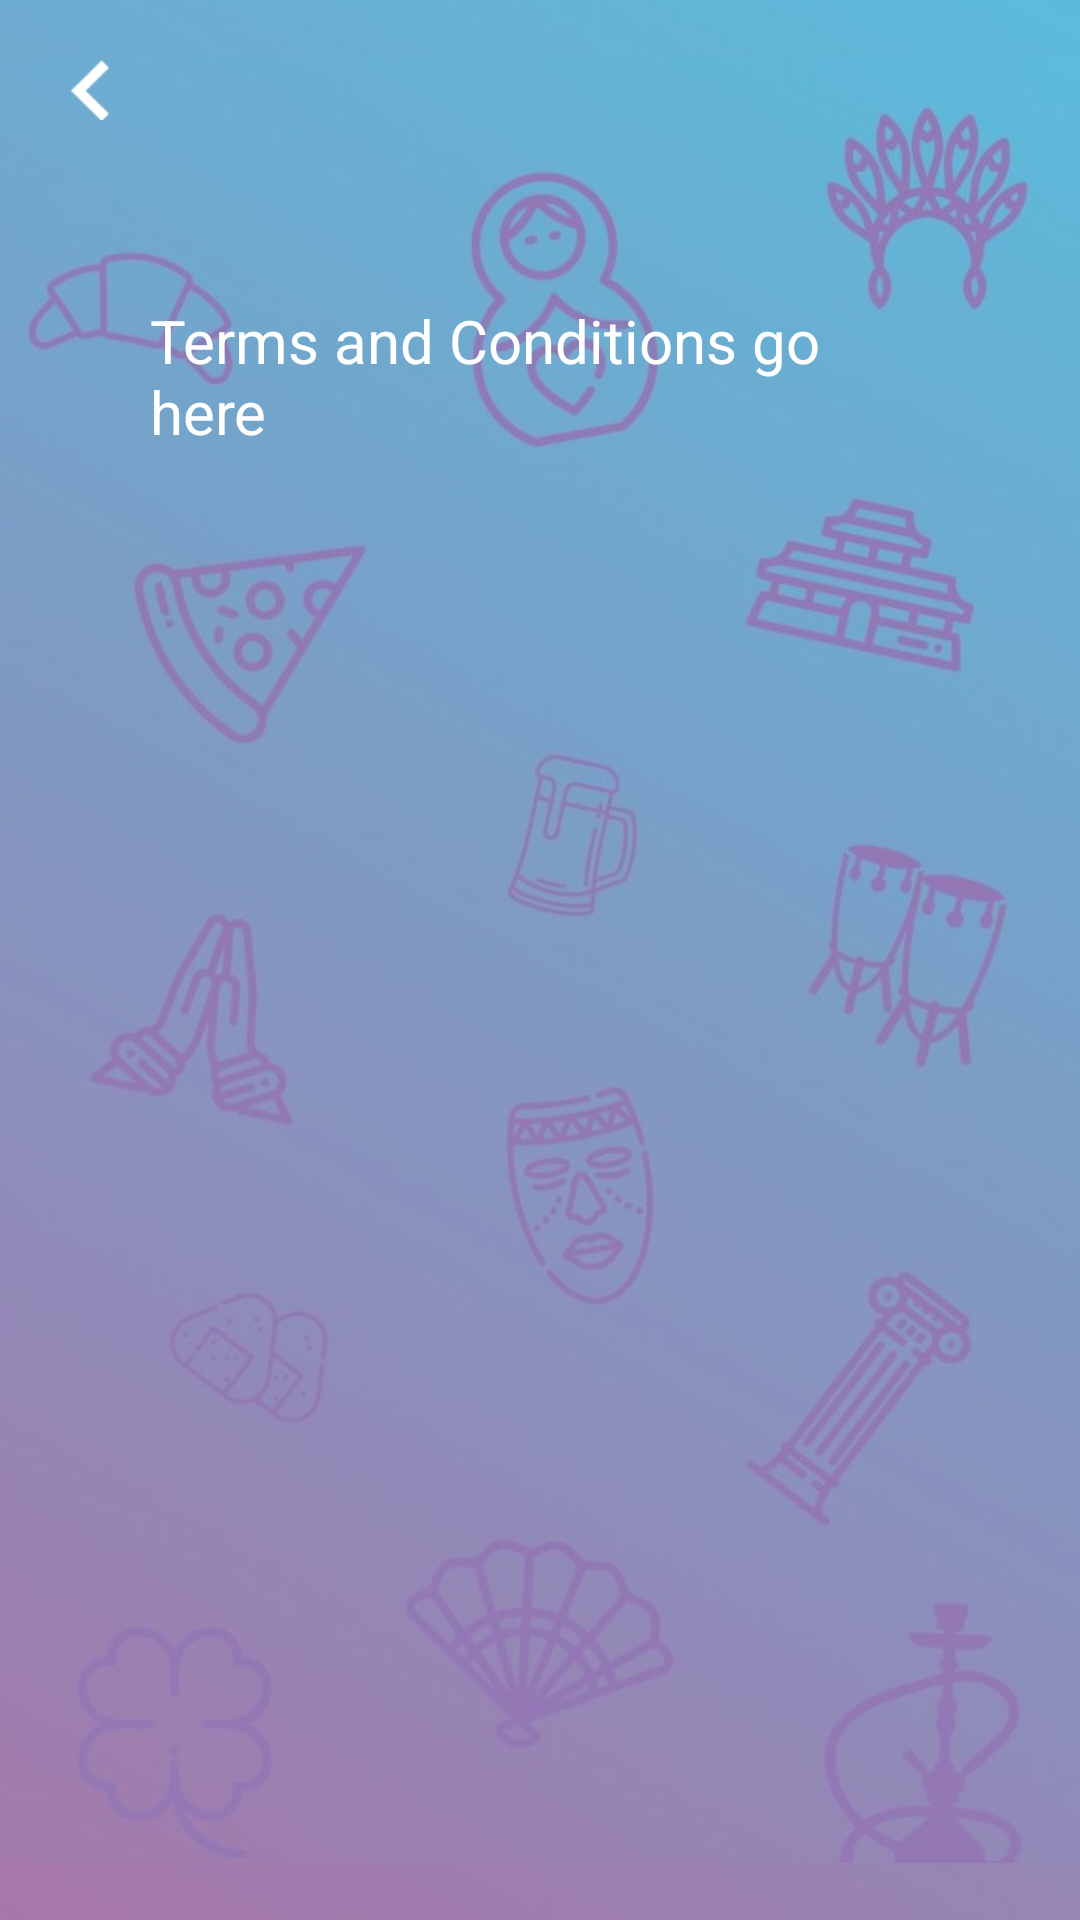

Locate icon controls on the screen. Image size 1080w x 1920h, boxes as (x1, y1, x2, y2).
back: (71, 60, 109, 120)
